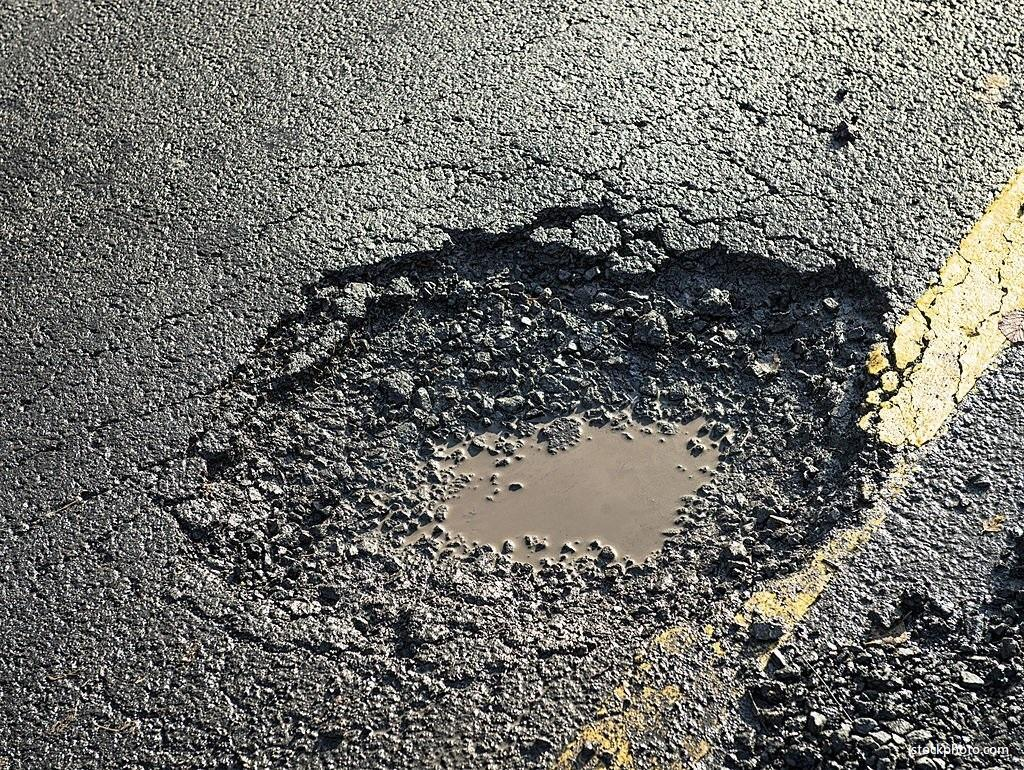Pothole: (211, 228, 914, 632)
